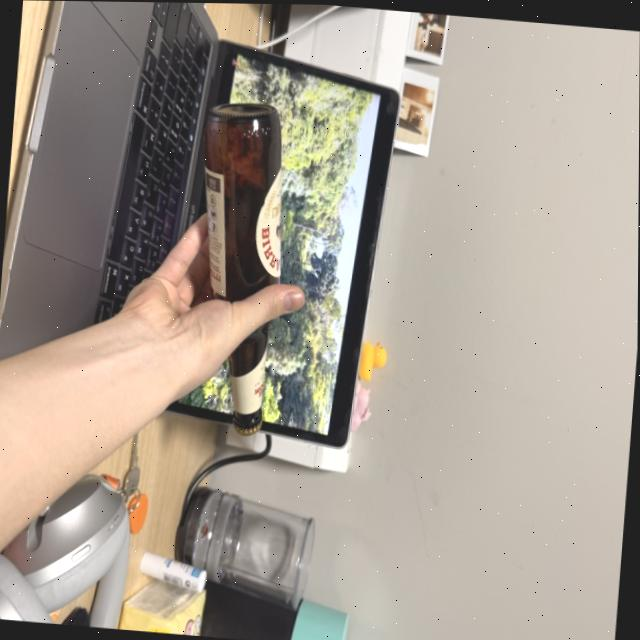beer: (173, 94, 300, 441)
